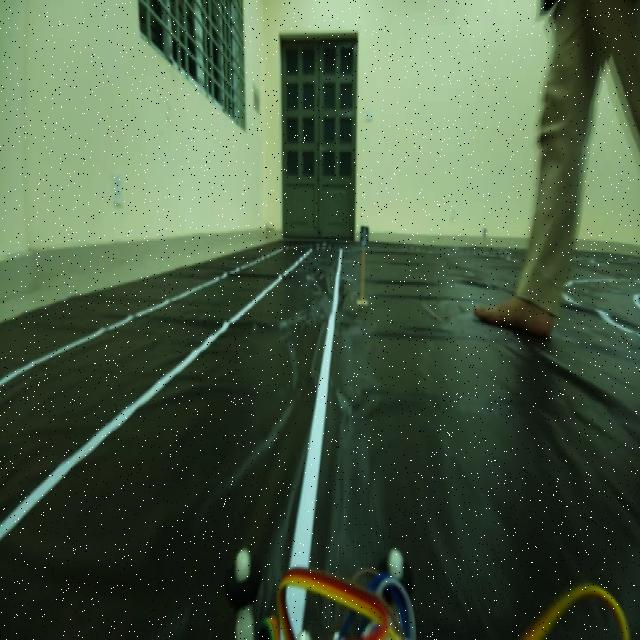highway_exit: (355, 213, 373, 253)
